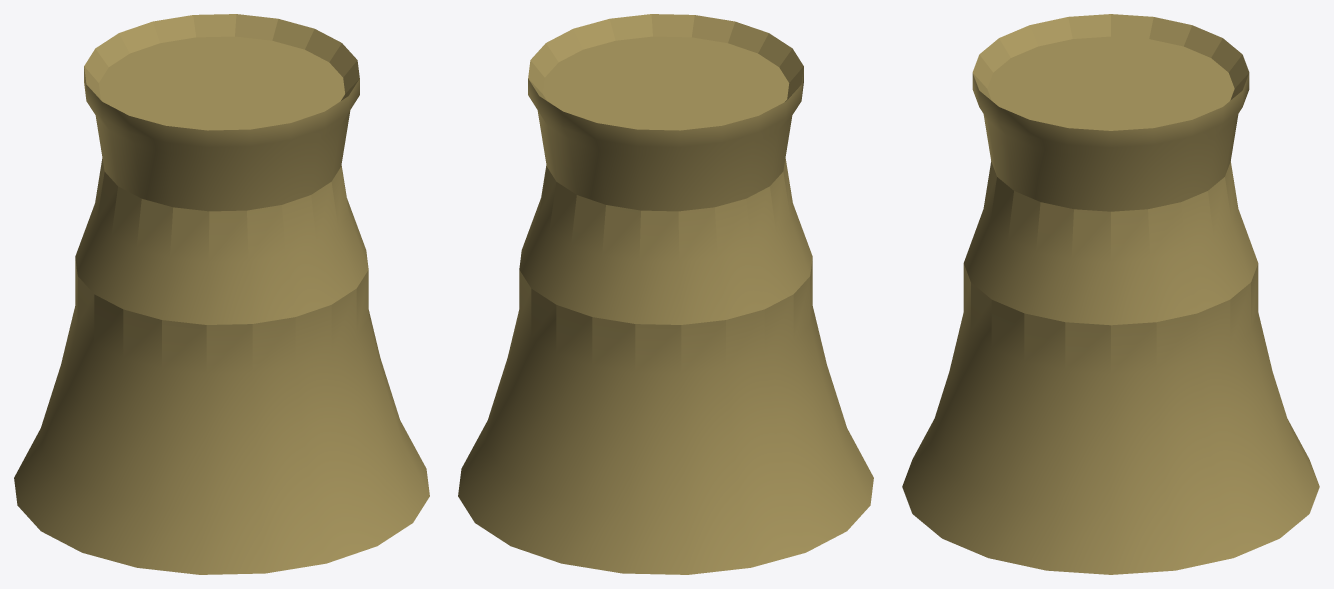
Rendered from chimney.fbx.
The picture shows the model from 3 angles, left to right: view 1: azimuth 30°, elevation 25°; view 2: azimuth 150°, elevation 25°; view 3: azimuth 270°, elevation 25°; orthographic projection.
Visible parts, largest first — view 1: pCylinder39; view 2: pCylinder39; view 3: pCylinder39.
Part boxes in pixels (bbox=[...]): pCylinder39: bbox=[14, 14, 429, 574]; pCylinder39: bbox=[458, 14, 873, 574]; pCylinder39: bbox=[902, 14, 1319, 574].
Bounding box in the file's own units: 7.35 × 8.05 × 7.35.
